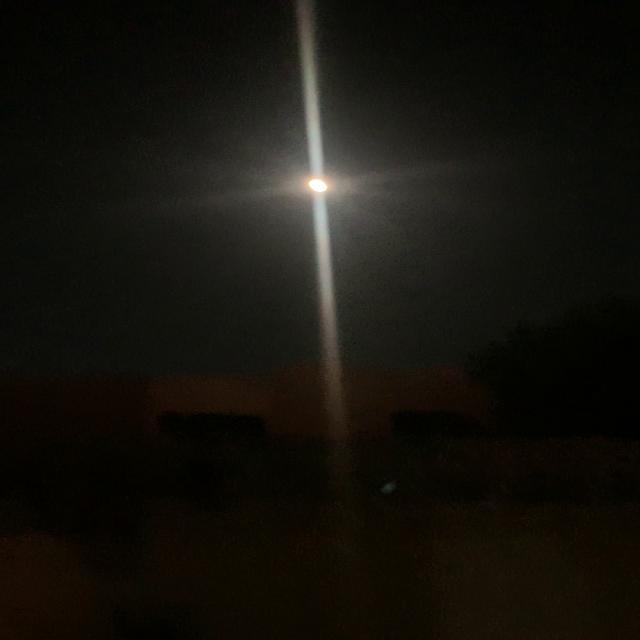moon: (282, 167, 346, 200)
